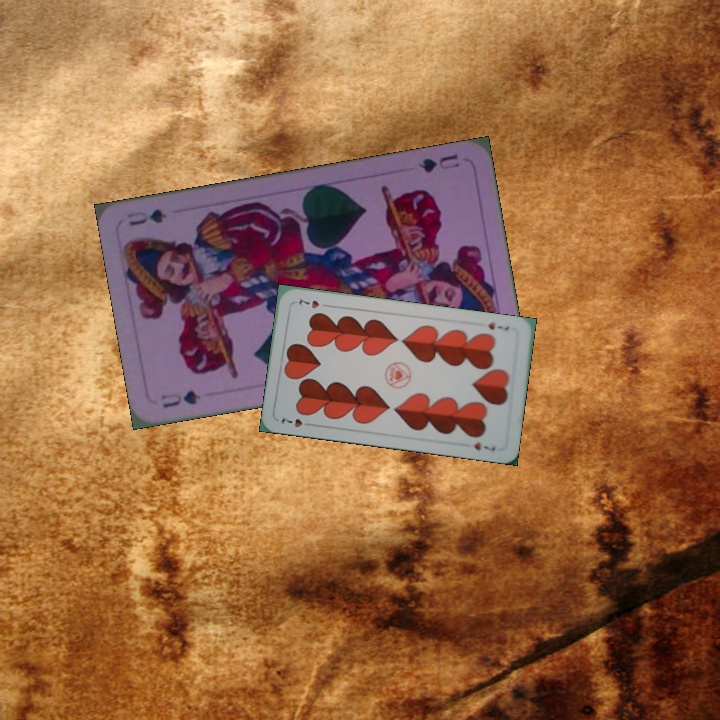GU: (414, 149, 462, 176), (157, 386, 204, 411)
H7: (277, 413, 316, 430), (484, 318, 512, 333)
